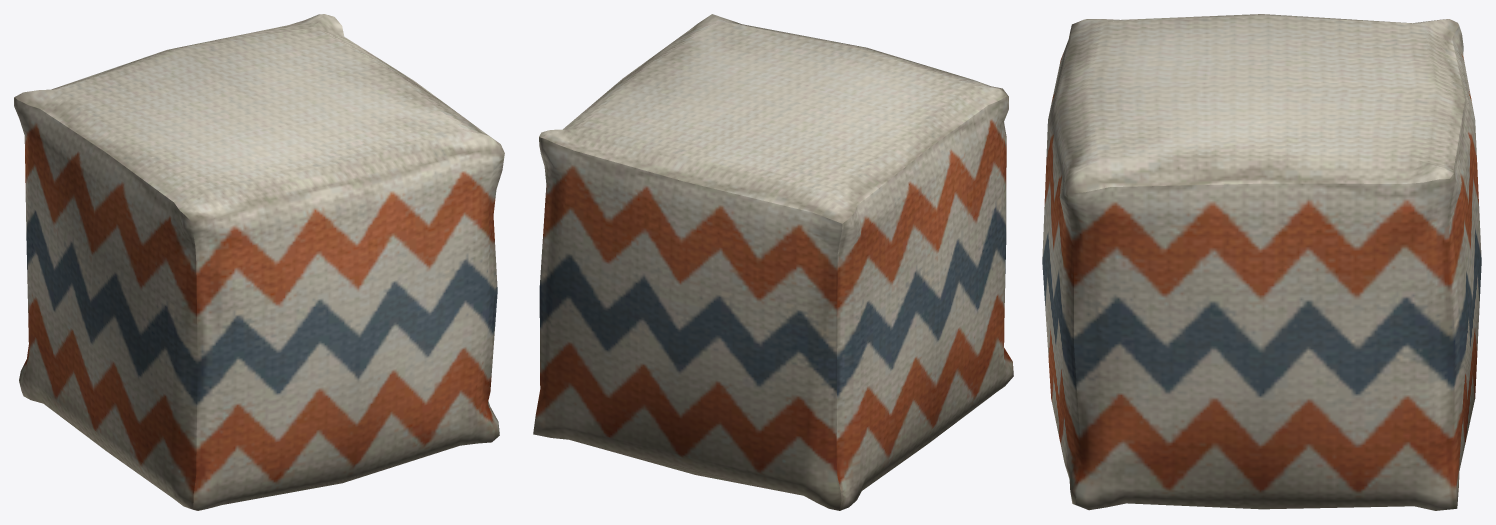
Rendered from modern_pouffe.glb.
The picture shows the model from 3 angles, left to right: view 1: azimuth 30°, elevation 25°; view 2: azimuth 150°, elevation 25°; view 3: azimuth 270°, elevation 25°; orthographic projection. The views are drawn at different scales.
Visible parts, largest first — view 1: TinyLiving_ModernPouffe; view 2: TinyLiving_ModernPouffe; view 3: TinyLiving_ModernPouffe.
Part boxes in pixels (x1,y1,x2,y2): TinyLiving_ModernPouffe: (14, 14, 504, 510); TinyLiving_ModernPouffe: (533, 14, 1013, 510); TinyLiving_ModernPouffe: (1042, 14, 1481, 510).
Size of the model in its own units: 0.5939 by 0.529 by 0.6043.
1 material, 1 textured.
